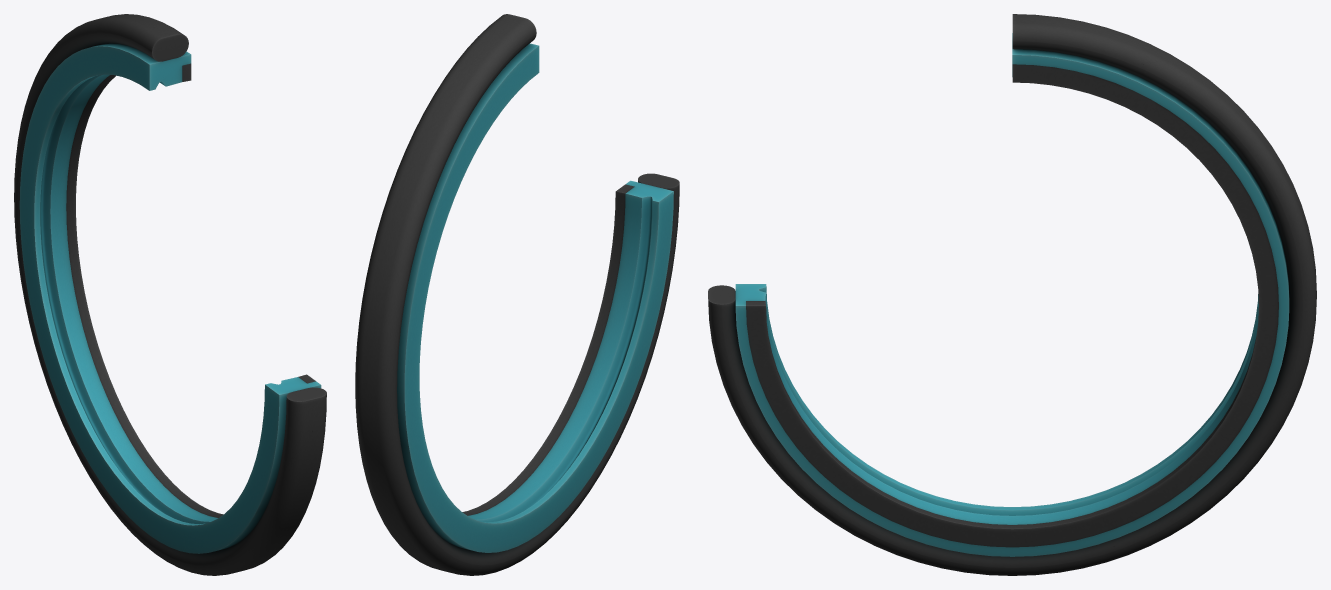
3 views of the same model, side by side, from view 1: azimuth 30°, elevation 25°; view 2: azimuth 150°, elevation 25°; view 3: azimuth 270°, elevation 25° (orthographic). The views are drawn at different scales.
Parts seen in each view (by area): view 1: turcon_stepseal_2a_cr; view 2: turcon_stepseal_2a_cr; view 3: turcon_stepseal_2a_cr.
Part boxes in pixels (left/top/right/bottom): turcon_stepseal_2a_cr: left=14, top=14, right=326, bottom=575; turcon_stepseal_2a_cr: left=355, top=14, right=679, bottom=575; turcon_stepseal_2a_cr: left=708, top=14, right=1316, bottom=575.
Size of the model in its own units: 0.0169 by 0.1994 by 0.1994.
Materials: 1 (1 with a texture image).
